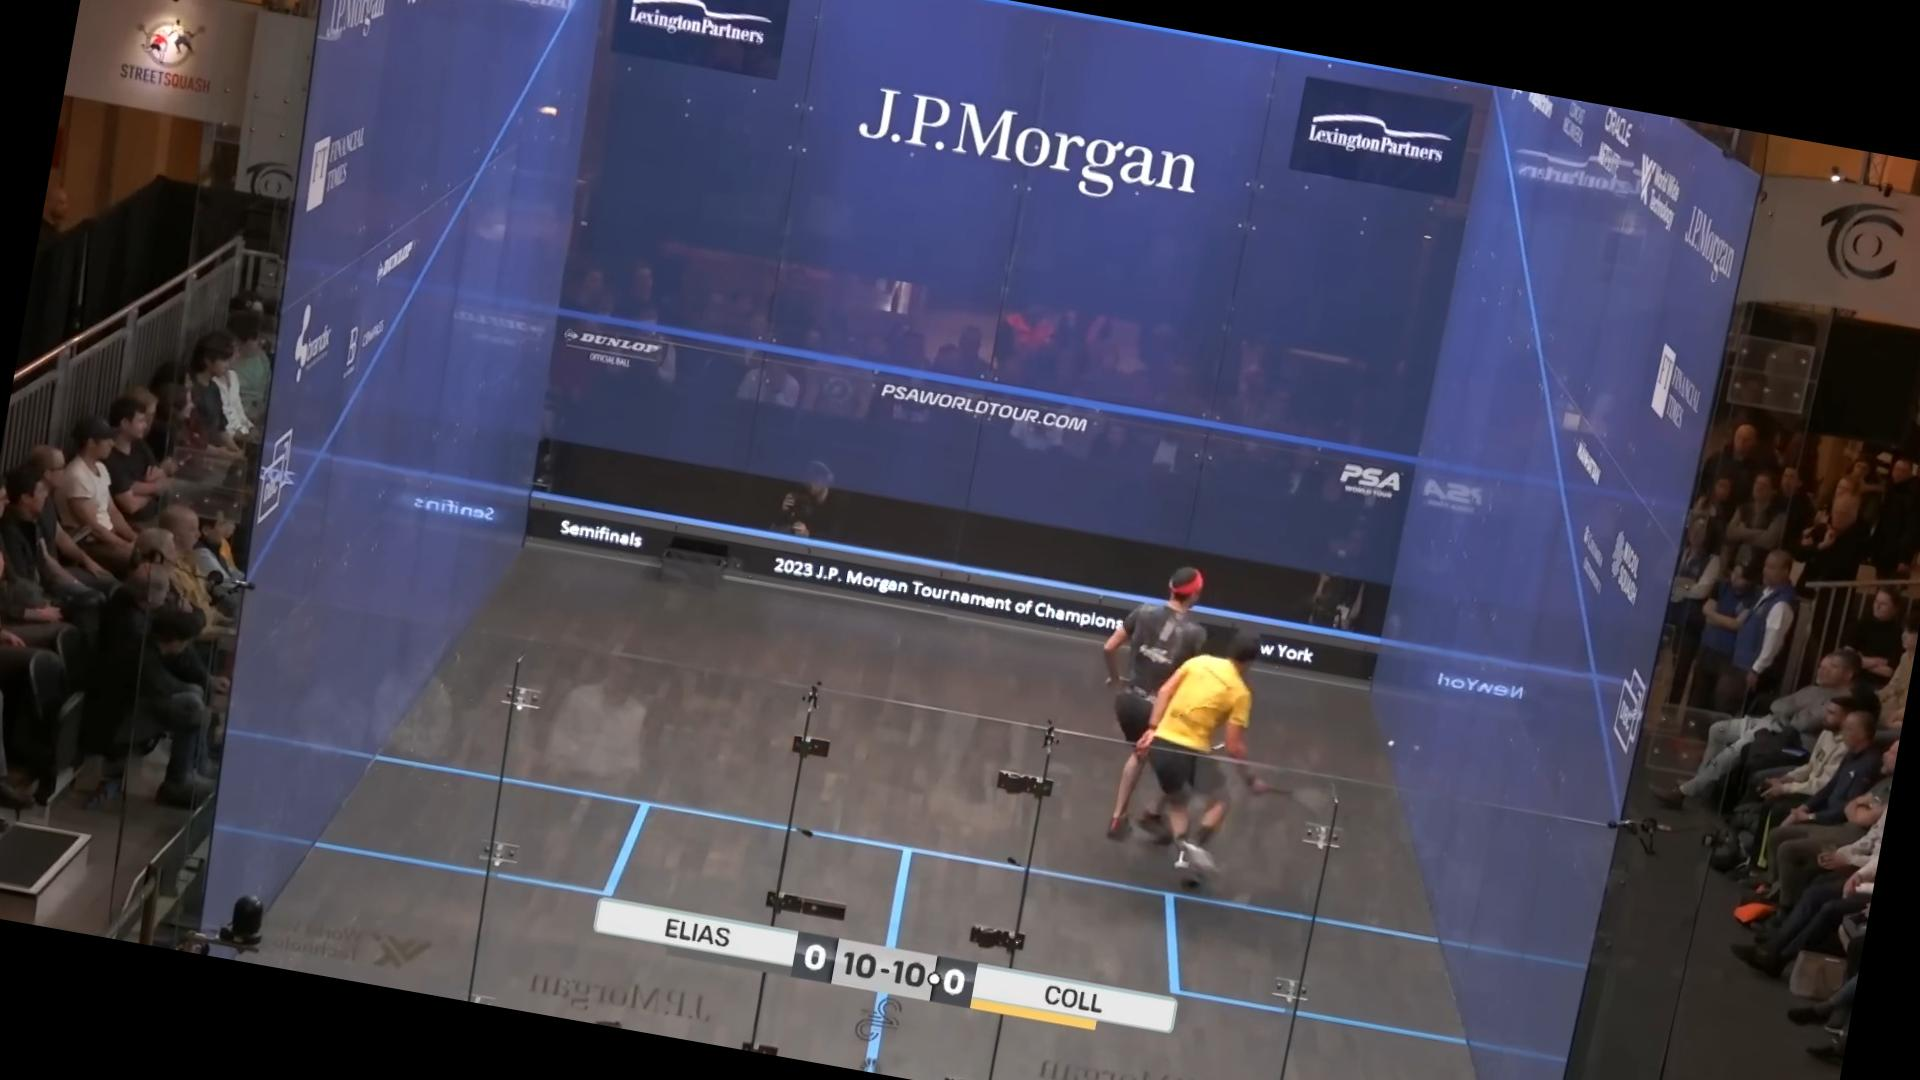Racket: (1254, 761, 1352, 832)
